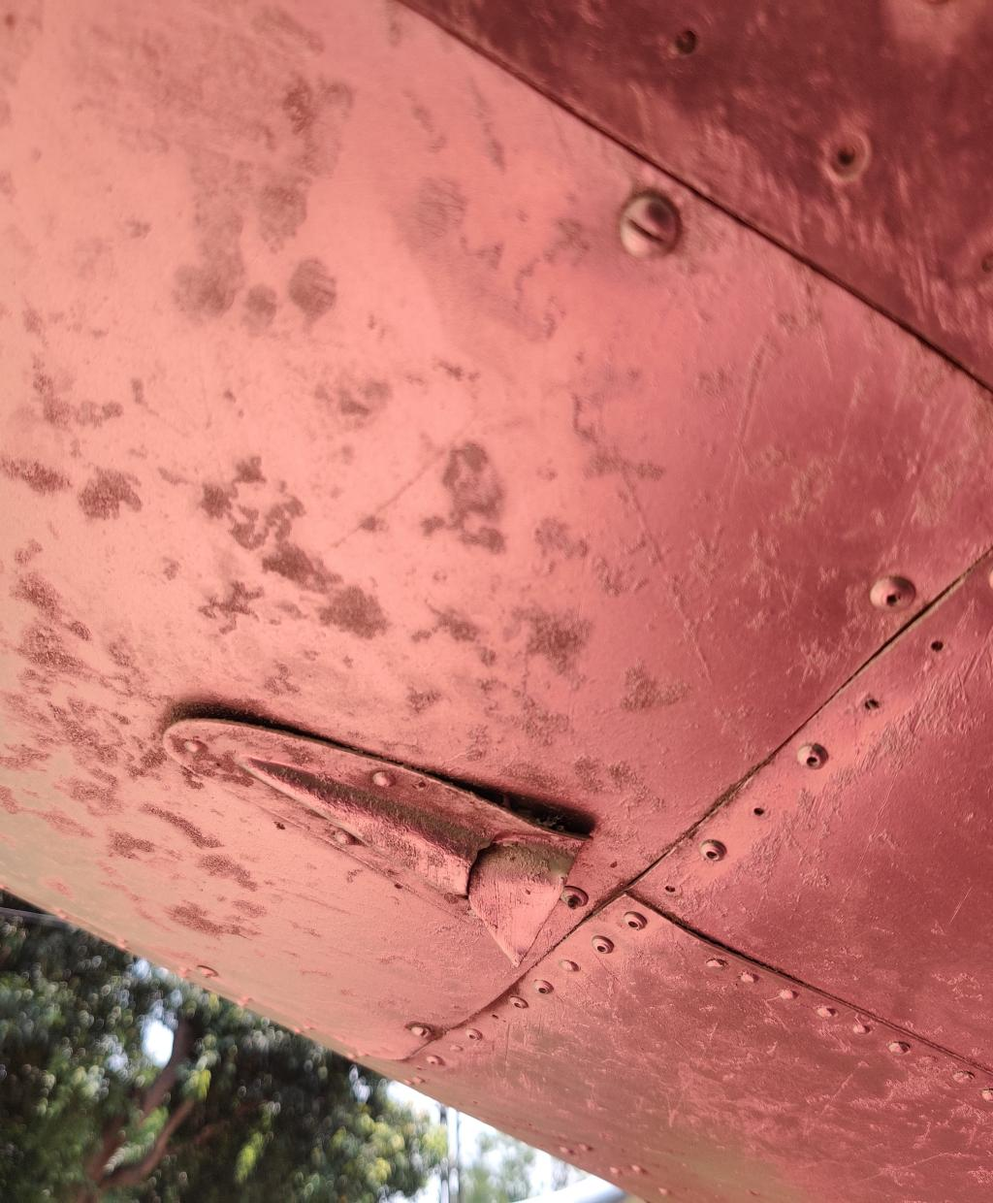crack: (440, 814, 523, 932)
